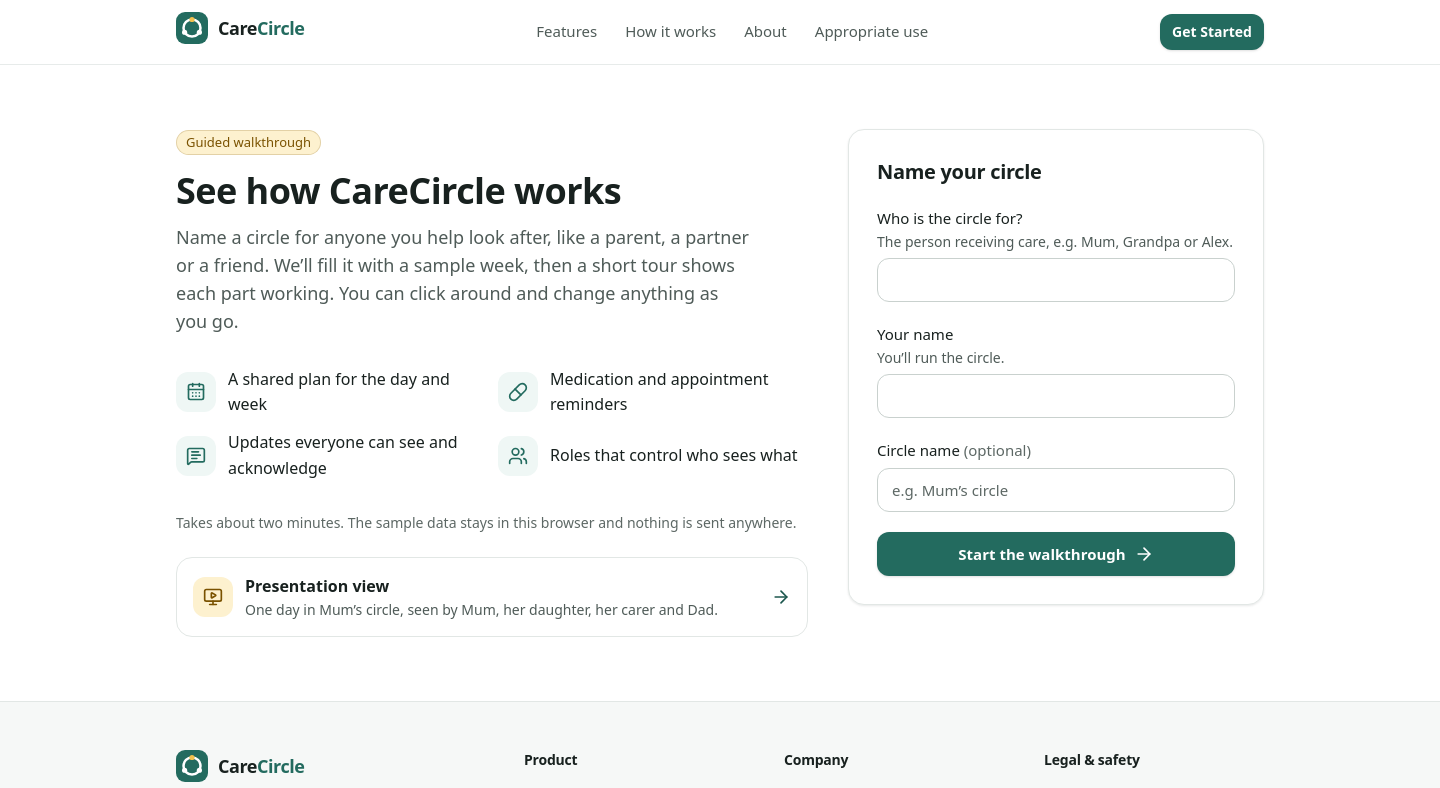
Test: the guided walkthrough › builds a circle with the visitor’s own names and starts the tour
Type "Mum" into the field labelled "Who is the circle for?". click: point(1056, 280)
box: [877,258,1235,302]
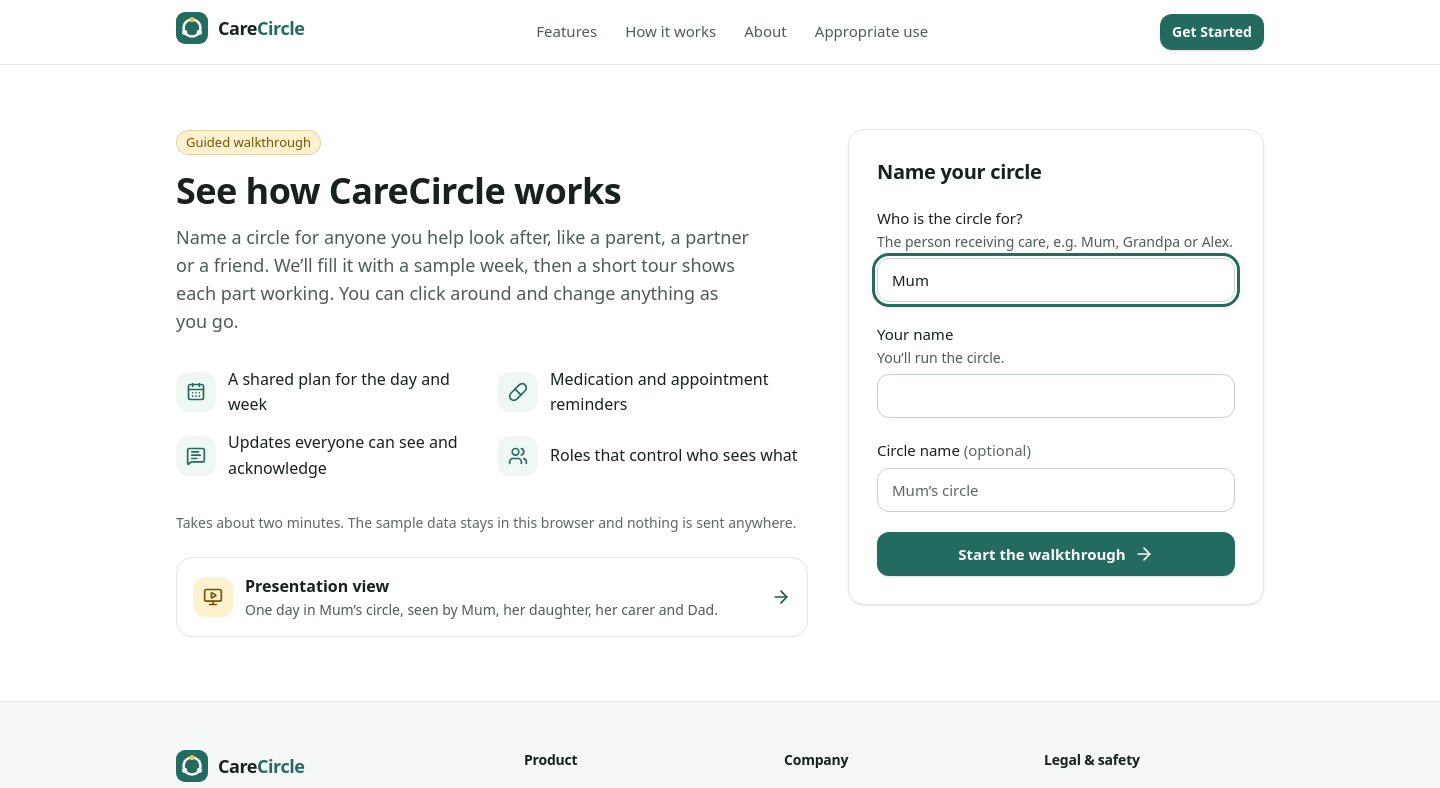
Type "Alex" into the field labelled "Your name". click: point(1056, 396)
box: [877,374,1235,418]
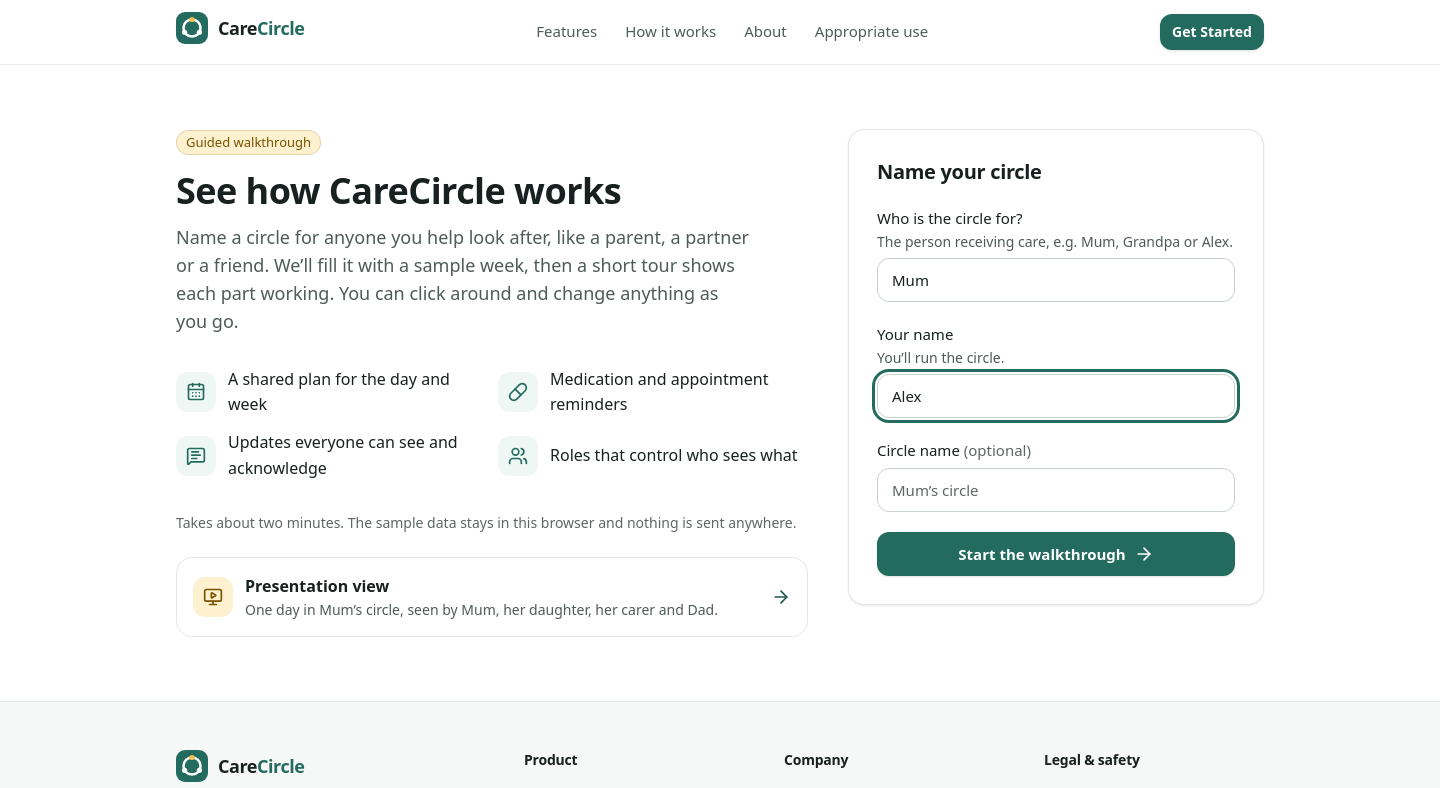
Click the button "Start the walkthrough". click: point(1056, 554)
box: [877,532,1235,576]
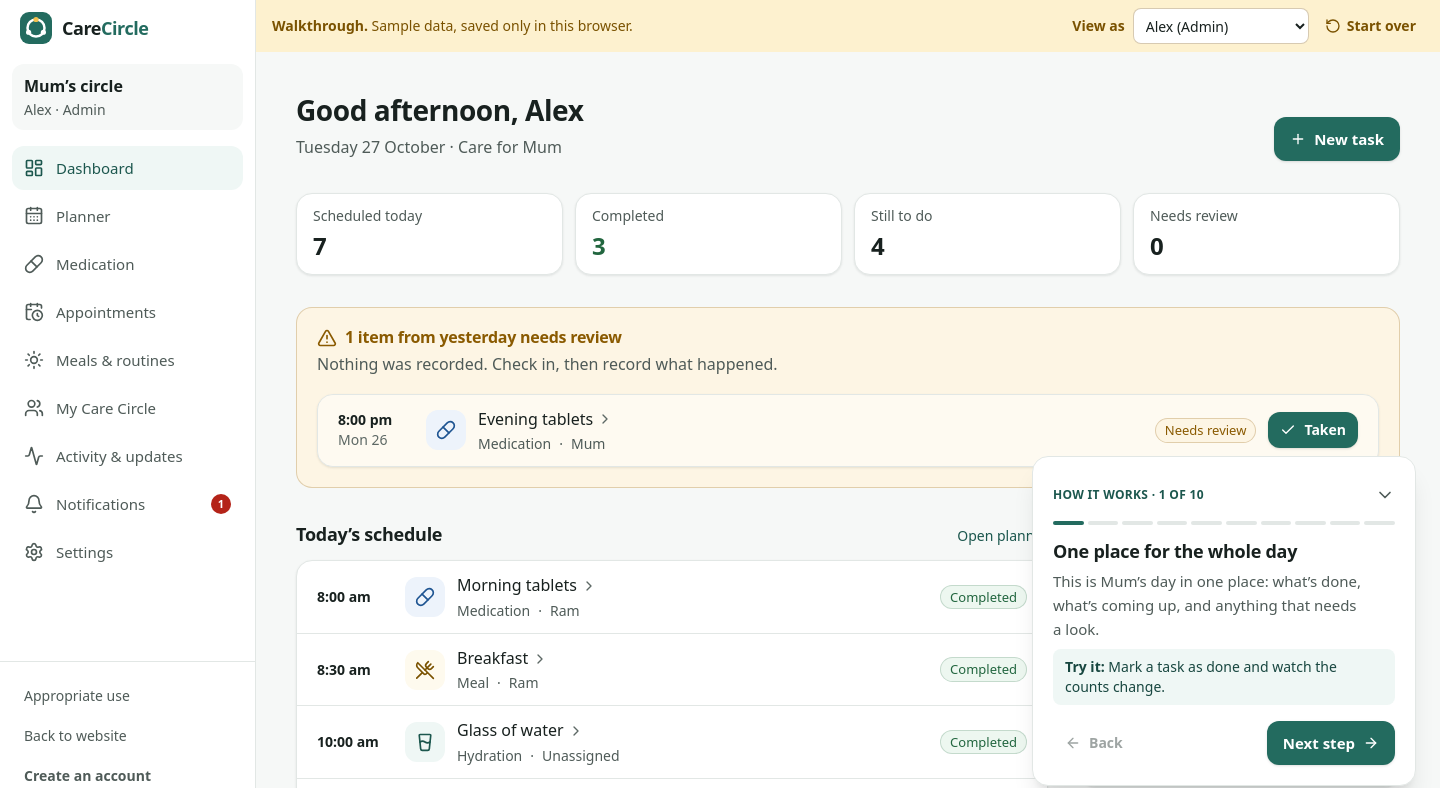
Expected: the text "Mum’s circle" is shown, [24,75,123,97]
Expected: the heading "Good afternoon, Alex" is shown, [296,92,584,129]
Expected: the heading "One place for the whole day" is shown, [1053,539,1297,563]
